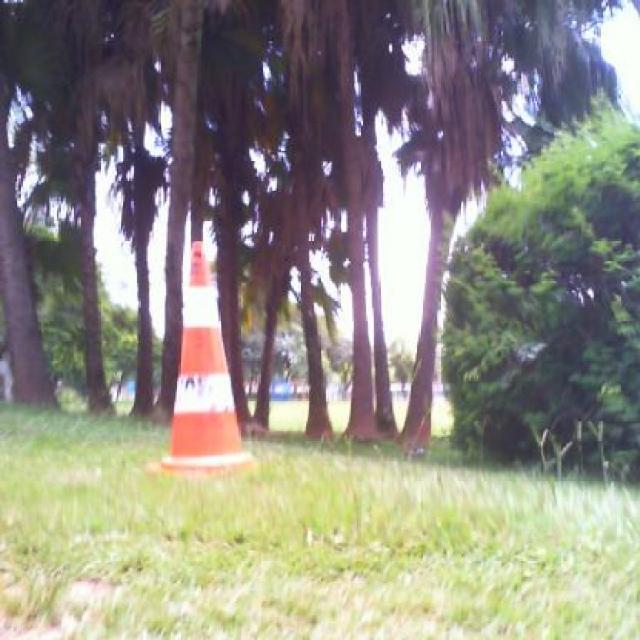Cone: (146, 238, 254, 474)
